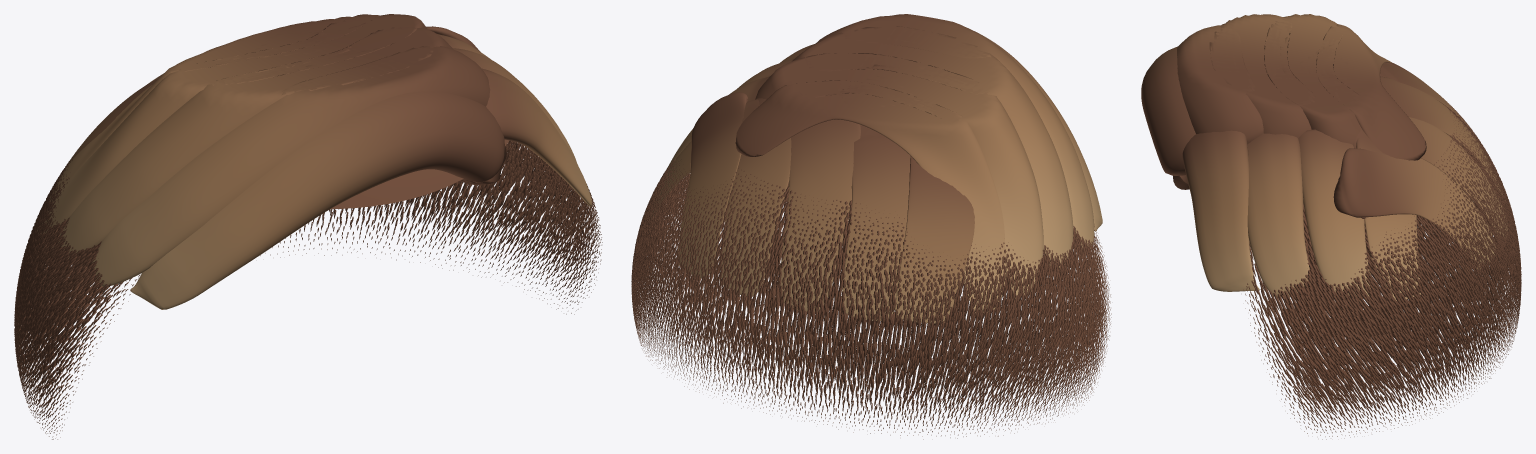
The model's file is Masculine-taper-bucket254-hair-ombre.glb.
3 renders of one model, left to right at view 1: azimuth 30°, elevation 25°; view 2: azimuth 150°, elevation 25°; view 3: azimuth 270°, elevation 25°, orthographic. The views are drawn at different scales.
Parts seen in each view (by area): view 1: 226 hair / Hair252 / sculpted locks, 226 hair / Hair252 / gentle tonal variation, 226 hair / Hair254 / rooted short groom; view 2: 226 hair / Hair252 / sculpted locks, 226 hair / Hair254 / rooted short groom, 226 hair / Hair252 / gentle tonal variation; view 3: 226 hair / Hair252 / sculpted locks, 226 hair / Hair254 / rooted short groom, 226 hair / Hair252 / gentle tonal variation.
Boxes of the visible parts, left/top/right/bottom form: 226 hair / Hair252 / sculpted locks: left=37, top=14, right=576, bottom=286; 226 hair / Hair252 / gentle tonal variation: left=130, top=68, right=591, bottom=309; 226 hair / Hair254 / rooted short groom: left=14, top=139, right=602, bottom=439; 226 hair / Hair252 / sculpted locks: left=649, top=14, right=1094, bottom=323; 226 hair / Hair254 / rooted short groom: left=631, top=155, right=1111, bottom=439; 226 hair / Hair252 / gentle tonal variation: left=780, top=28, right=1102, bottom=320; 226 hair / Hair252 / sculpted locks: left=1177, top=14, right=1507, bottom=300; 226 hair / Hair254 / rooted short groom: left=1243, top=98, right=1521, bottom=439; 226 hair / Hair252 / gentle tonal variation: left=1141, top=46, right=1473, bottom=291.
Size of the model in its own units: 0.9716 by 0.6163 by 0.7405.
